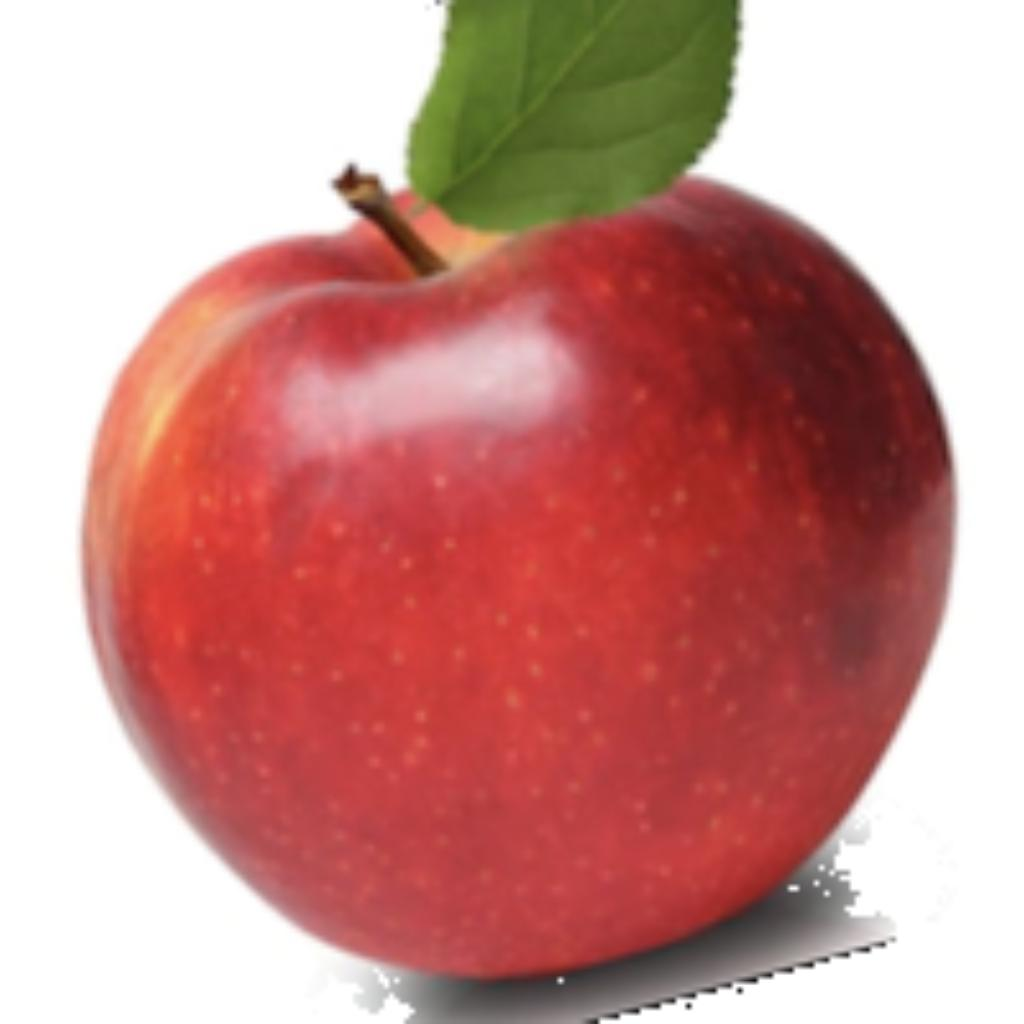apple: (72, 0, 963, 1019)
